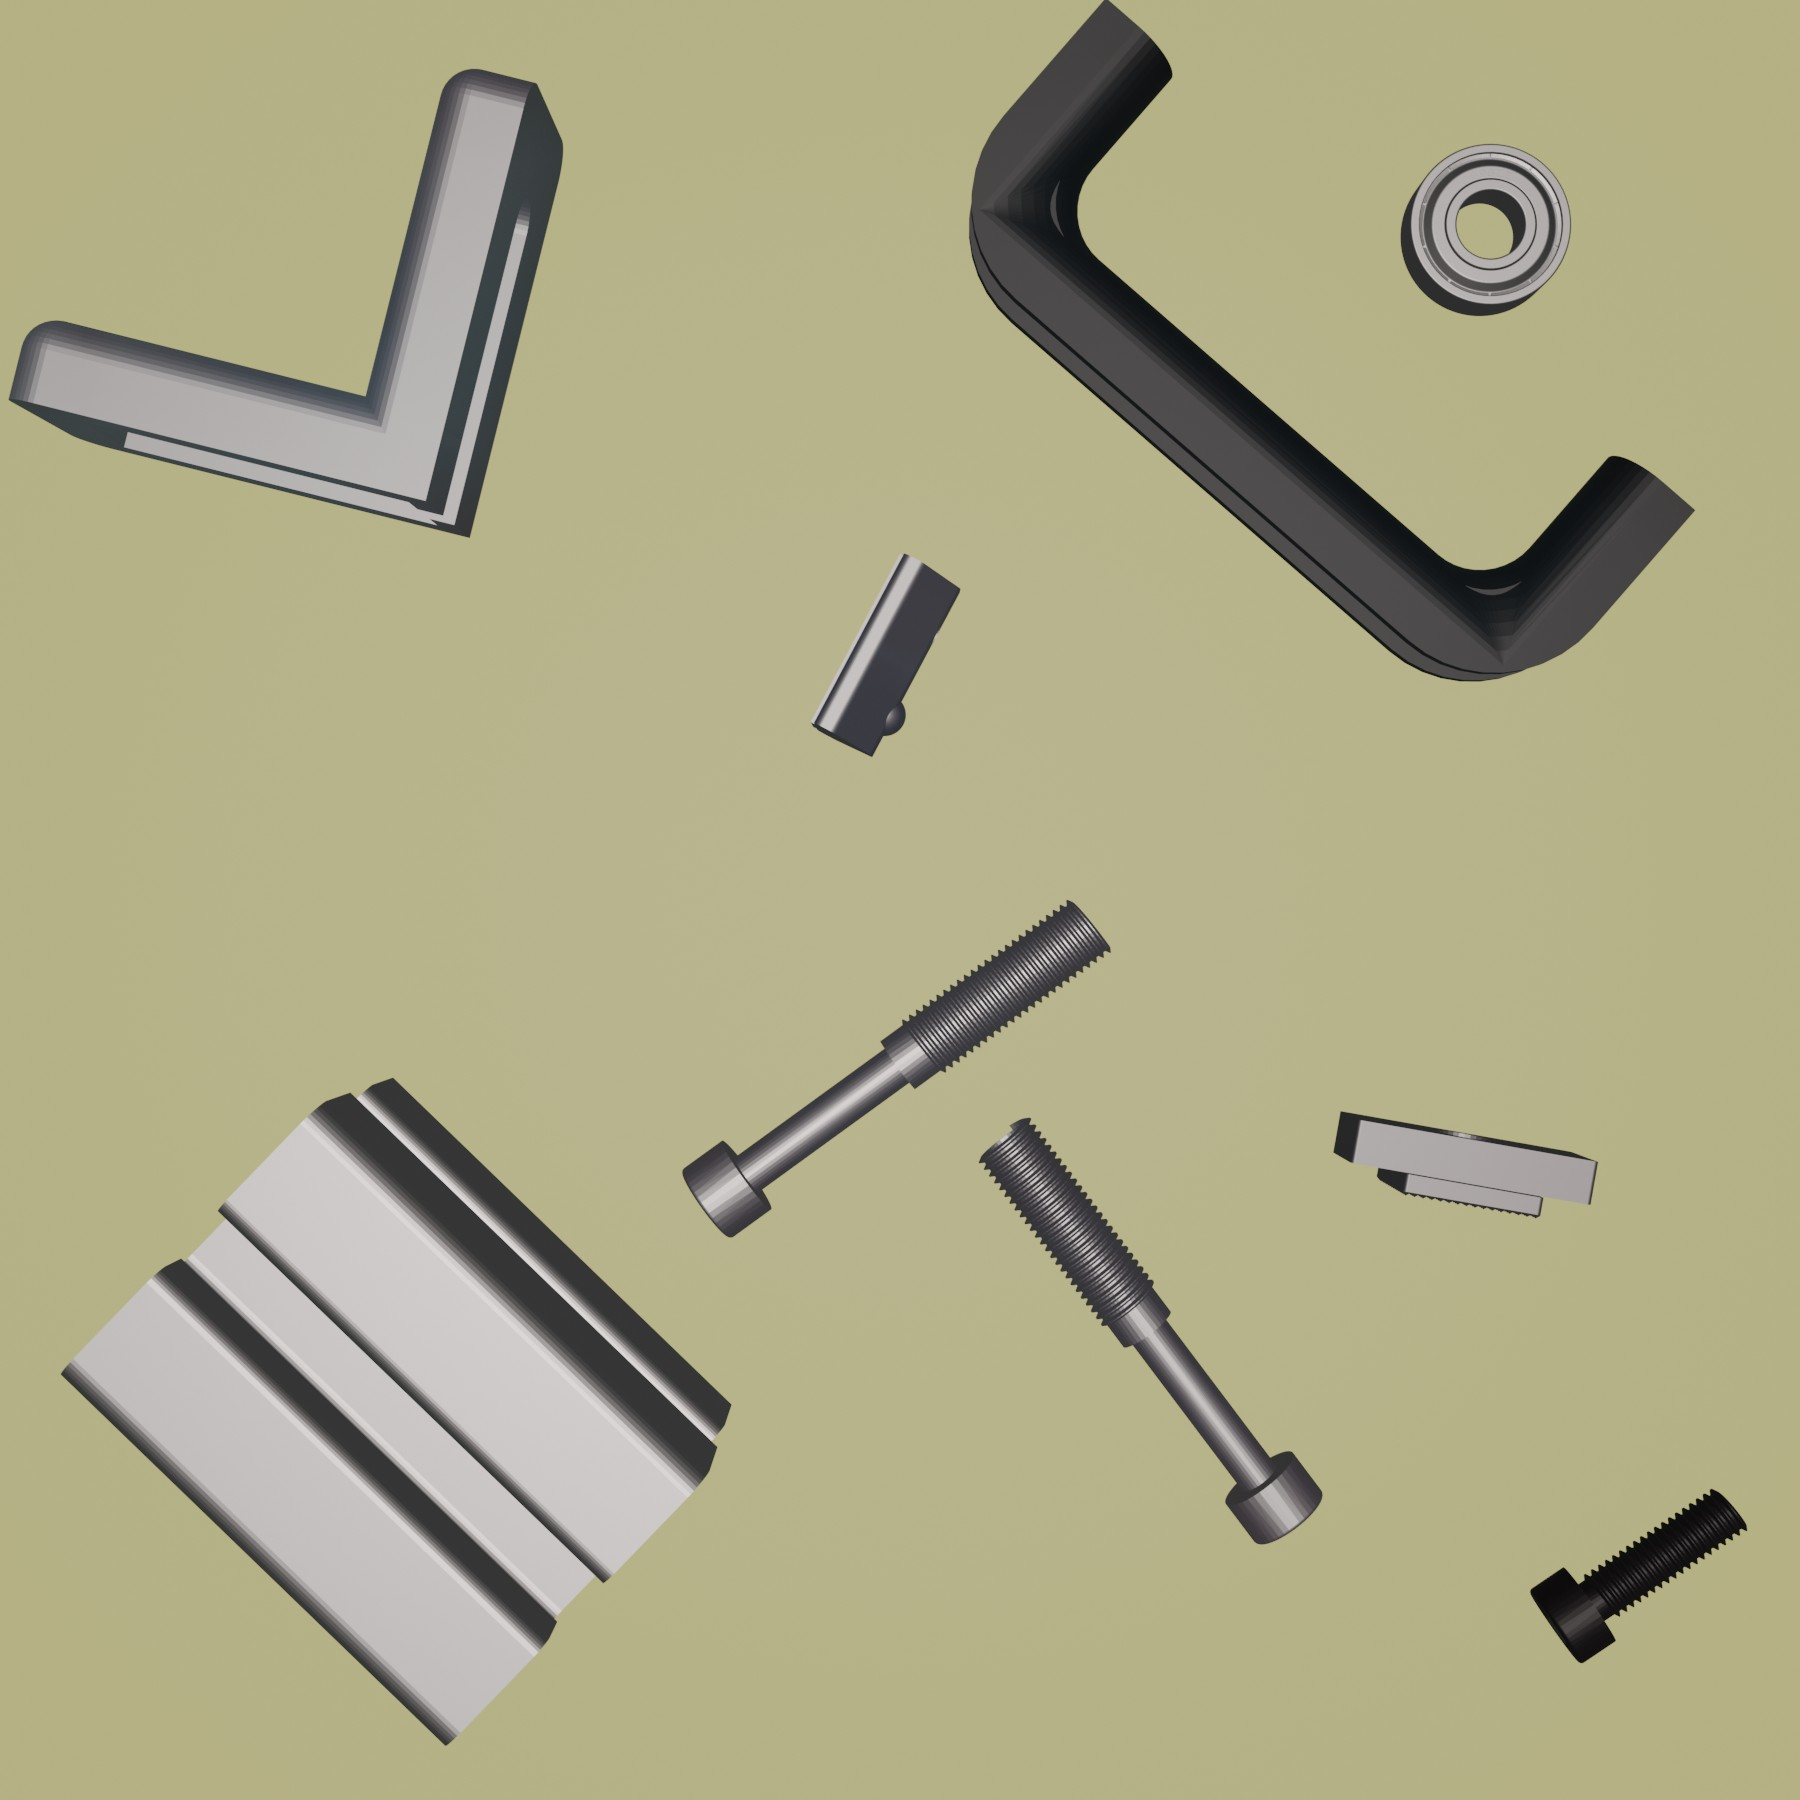Aluminium Extension: (56, 1075, 737, 1749)
Ball Bearing: (1398, 142, 1574, 320)
Multiwinkel: (5, 68, 565, 542)
Pull Handle: (966, 2, 1698, 684)
Shoulder Socket Head Cap Screw: (977, 1114, 1324, 1546), (682, 895, 1113, 1240)
Socket Head Cap Screw: (1526, 1484, 1751, 1668)
T Nut Square: (1329, 1108, 1602, 1226)
T Spring Nut: (804, 551, 964, 758)
